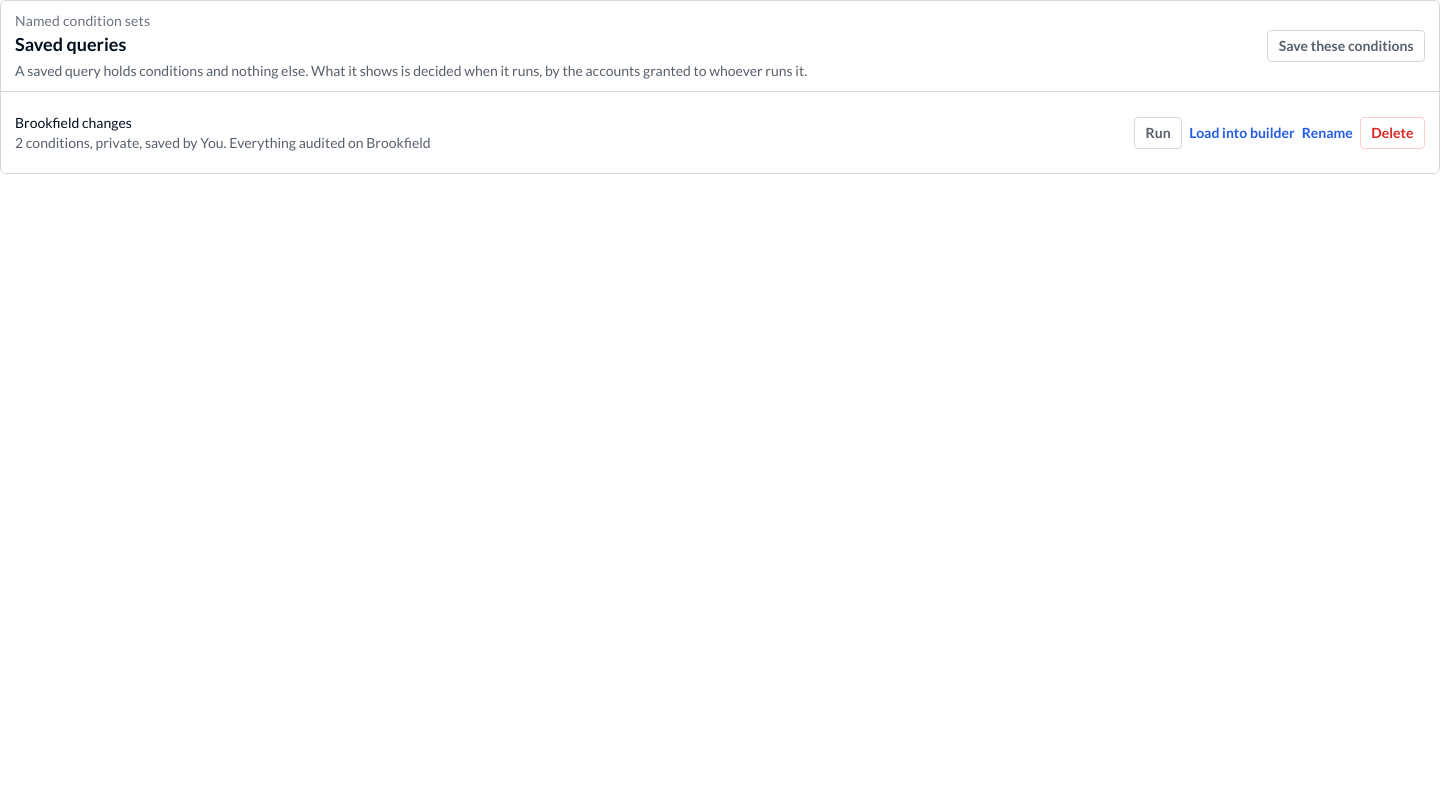
SavedQueriesPanel › words a query that vanished rather than claiming it was forbidden
Expected: the text "Brookfield changes" is shown, 15,114 -> 132,131
Click the button "Run".
click(1158, 133)  # box 1134,117 -> 1182,149
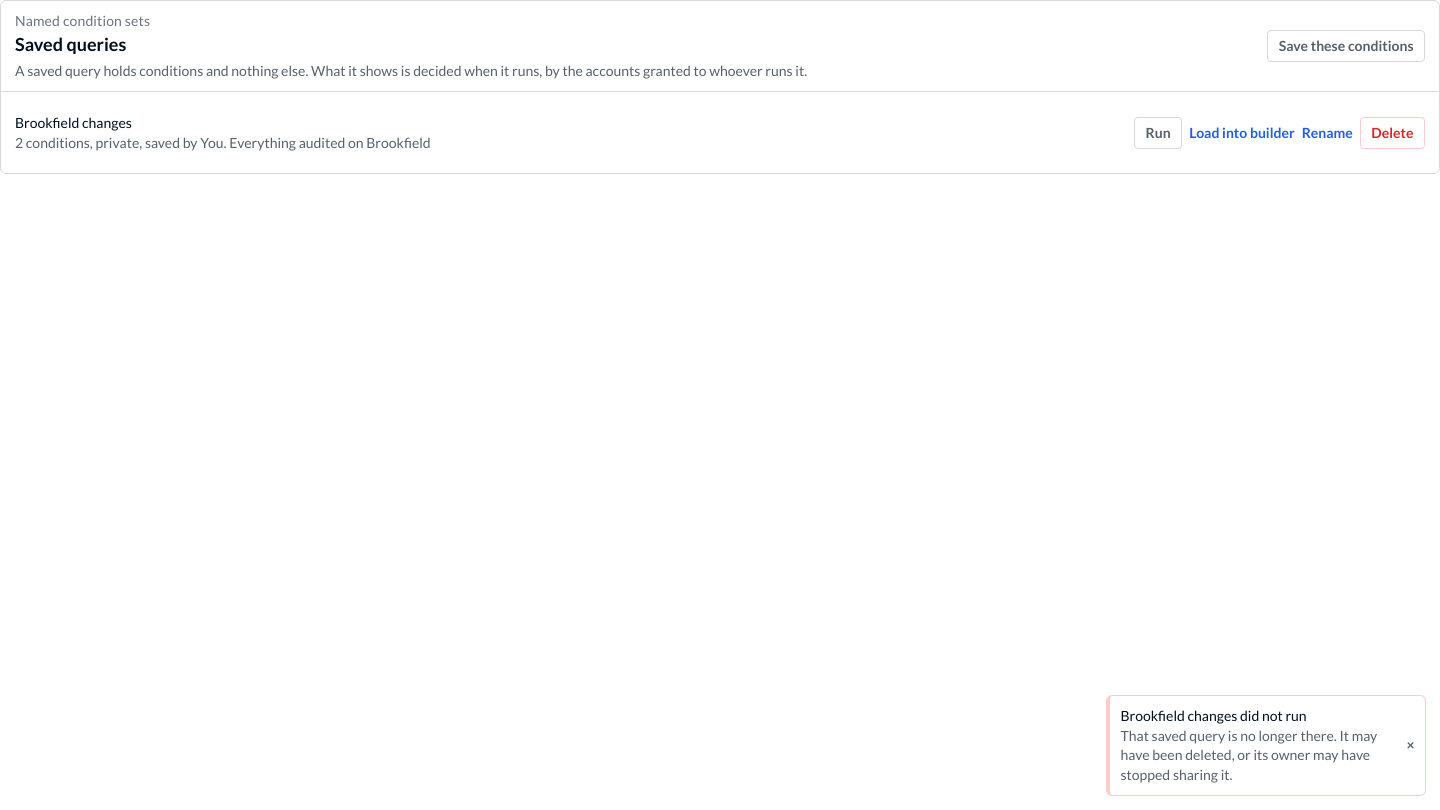
Expected: the text "stopped sharing it" is shown, 1120,727 -> 1377,783
